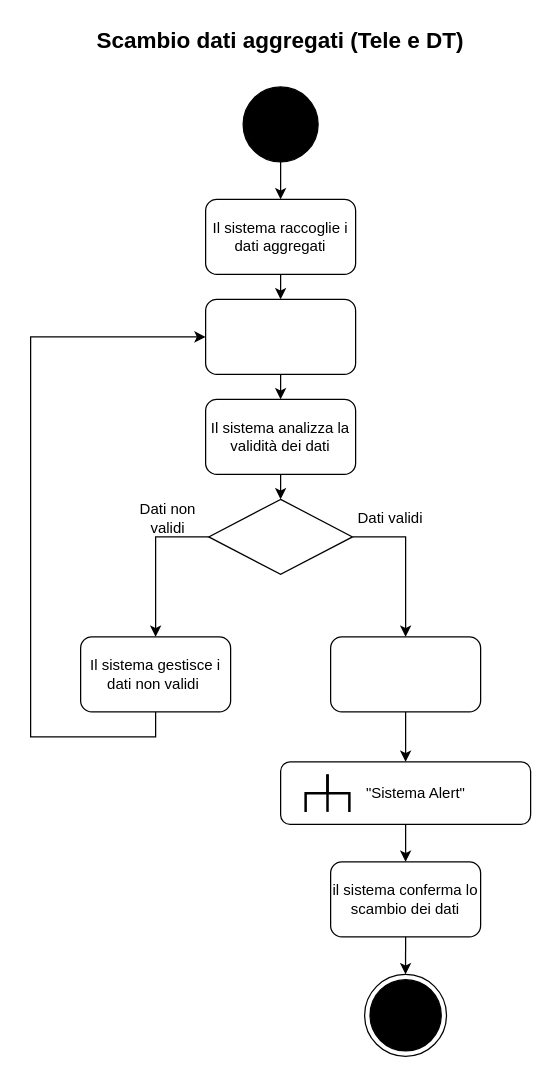
Image size: 559x1078. Some labels were removed from this diagram. Each missing label, with the centre of its shape:
"Il sistema invia i dati aggregati" goes at point (405, 674).
"Il sistema prepara il pacchetto dei dati aggragati" goes at point (280, 336).
